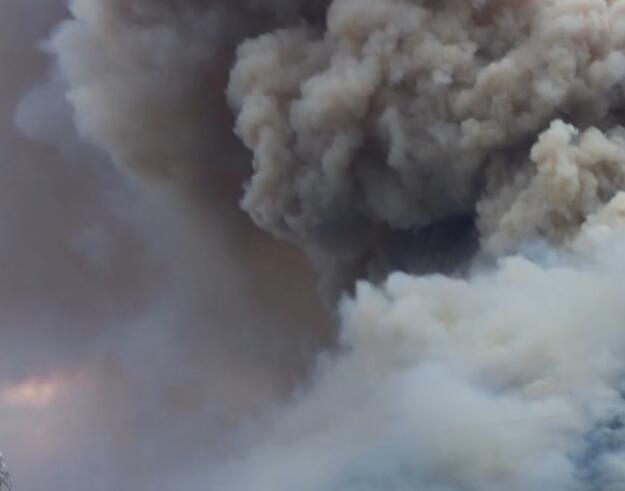yanwu: (1, 1, 624, 489)
